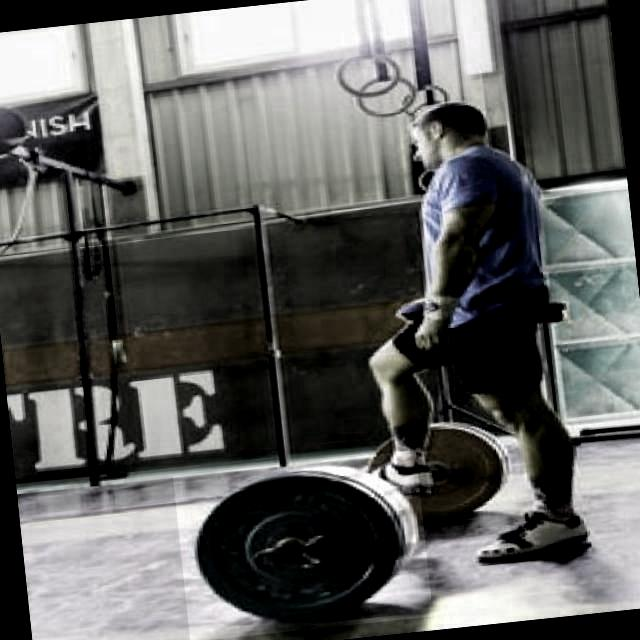barbell: (172, 450, 432, 640)
